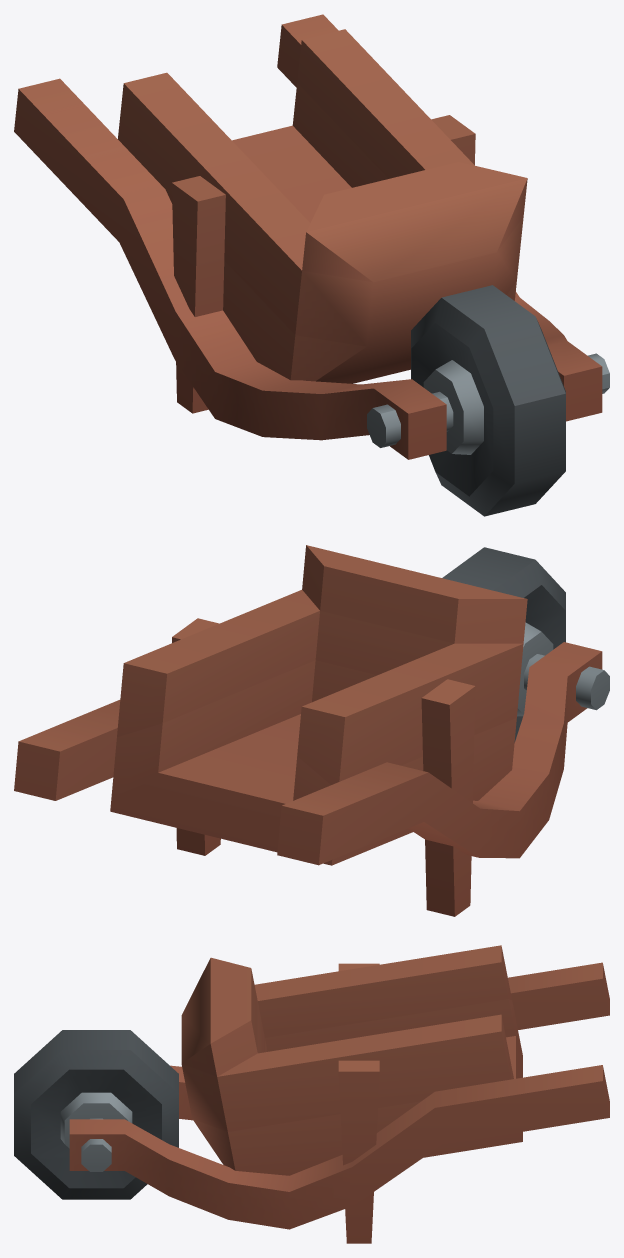
File: wheelbarrow.gltf
3 renders of one model, top to bottom at view 1: azimuth 30°, elevation 25°; view 2: azimuth 150°, elevation 25°; view 3: azimuth 270°, elevation 25°, orthographic. The views are drawn at different scales.
Parts seen in each view (by area): view 1: wheelbarrow; view 2: wheelbarrow; view 3: wheelbarrow.
Part boxes in pixels (box(x1,y1,x2,y2)): wheelbarrow: box(14, 14, 609, 516); wheelbarrow: box(14, 545, 609, 916); wheelbarrow: box(14, 945, 609, 1243).
Bounding box in the file's own units: 0.238 × 0.1884 × 0.5057.
Materials: 1 (1 with a texture image).
